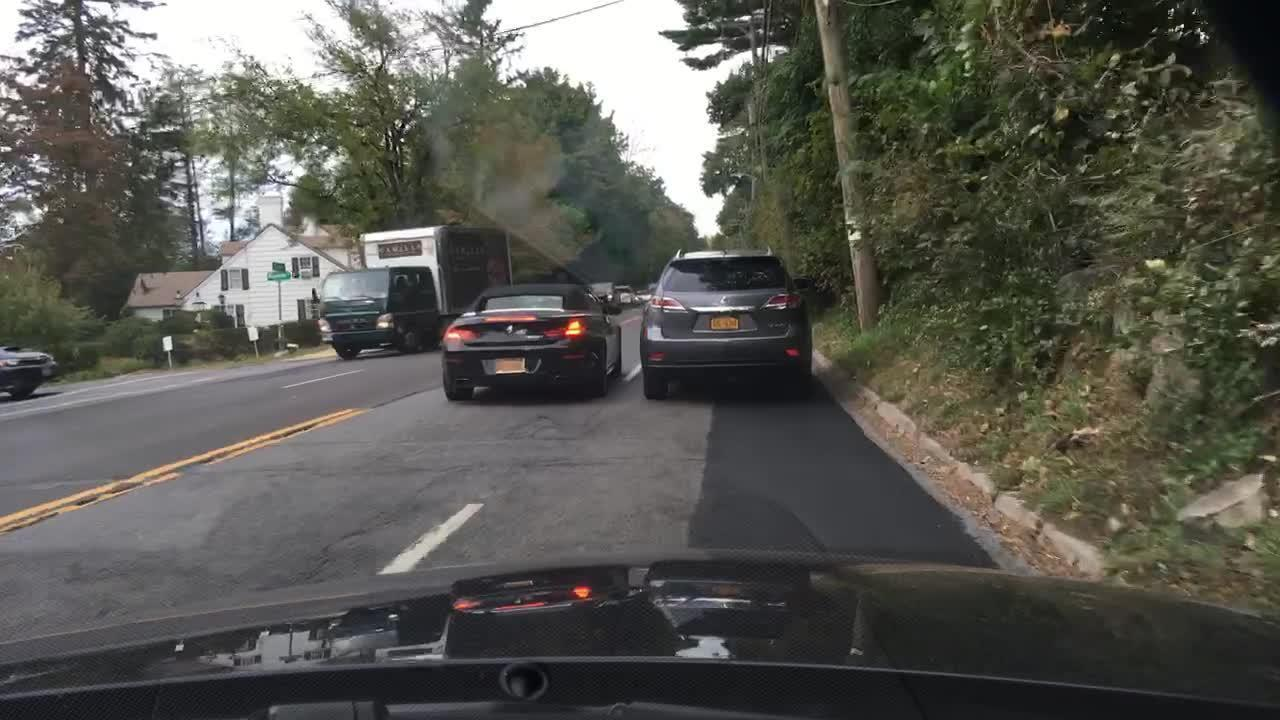lexus: (711, 294, 736, 305)
